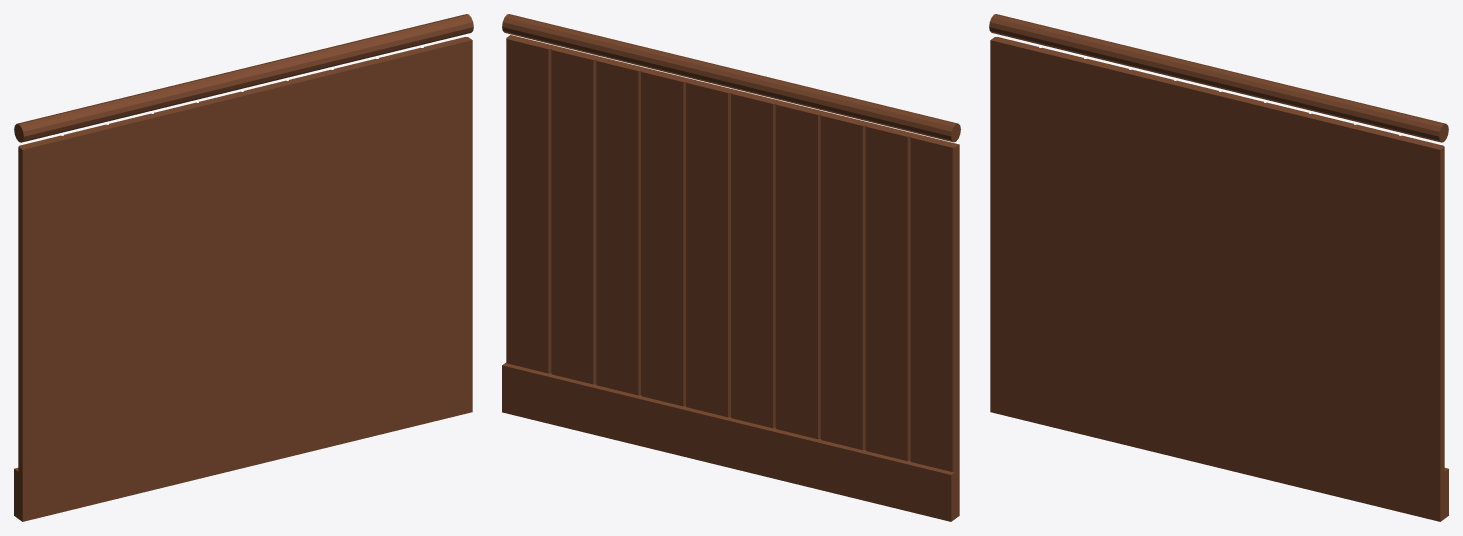
Rendered from lambri_1m_madeira.glb.
The picture shows the model from 3 angles, left to right: view 1: azimuth 30°, elevation 25°; view 2: azimuth 150°, elevation 25°; view 3: azimuth 330°, elevation 25°; orthographic projection.
Parts seen in each view (by area): view 1: lambri_1m_madeira; view 2: lambri_1m_madeira; view 3: lambri_1m_madeira.
Boxes of the visible parts, x1=… form: lambri_1m_madeira: x1=14, y1=14, x2=473, y2=521; lambri_1m_madeira: x1=502, y1=14, x2=960, y2=521; lambri_1m_madeira: x1=989, y1=14, x2=1448, y2=521.
Size of the model in its own units: 1 by 0.8388 by 0.0375.
